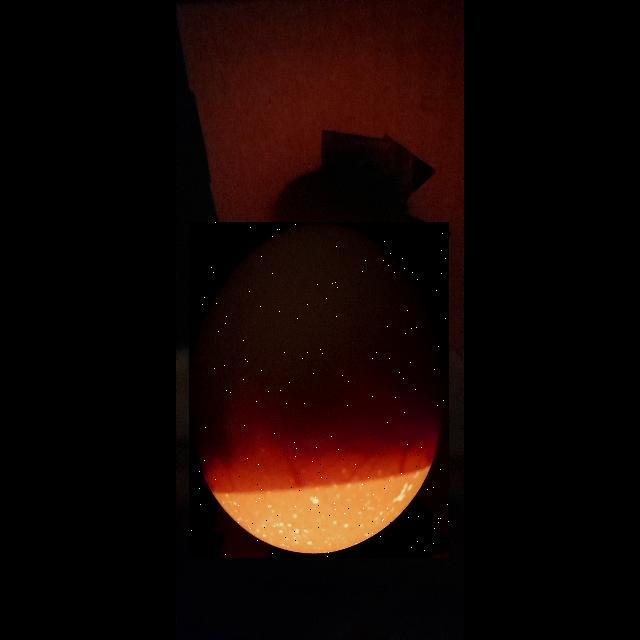Fertile: (189, 222, 449, 558)
